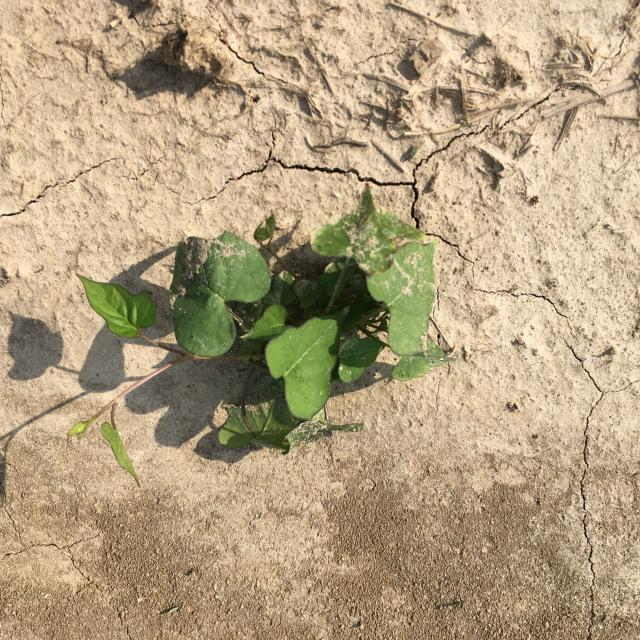MorningGlory: (69, 184, 460, 489)
